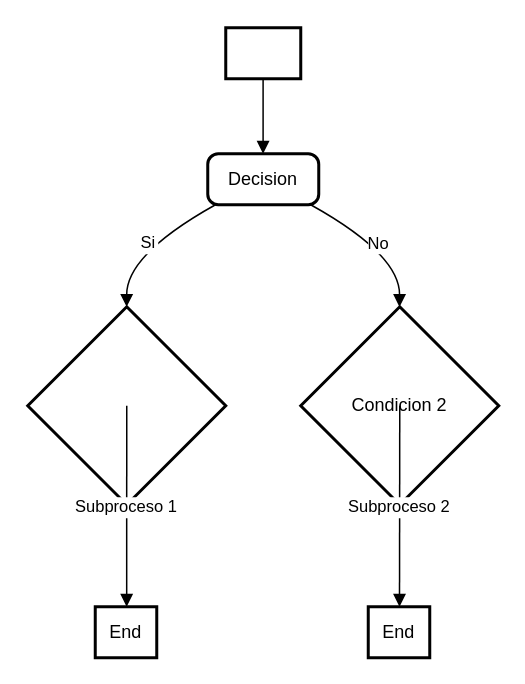
Image size: 525x684. Some labels were removed from this diagram. Here are the shapes that lost their labels. From the top down, the centre of each, then its label:
At point 263,53: "Start".
At point 126,405: "Condicion 1".
